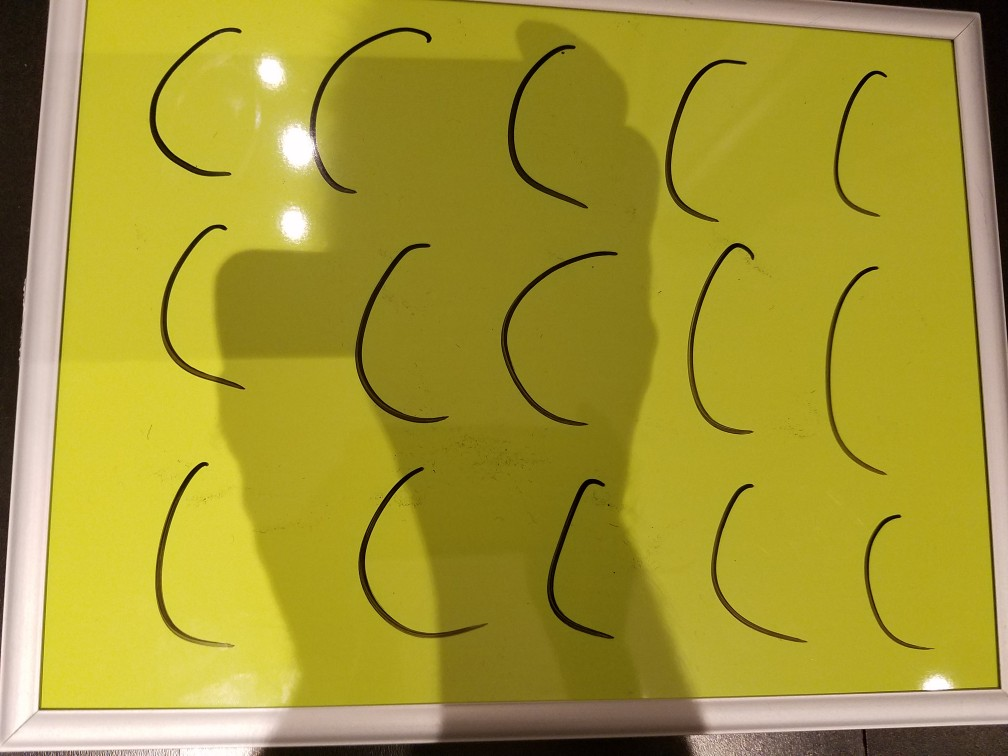(: (340, 451, 493, 668), (129, 442, 256, 679), (292, 11, 434, 201), (344, 229, 468, 441), (501, 239, 622, 439), (139, 213, 257, 399), (130, 13, 253, 188), (677, 232, 775, 446), (697, 475, 809, 658), (810, 252, 897, 481), (493, 28, 598, 213), (648, 38, 751, 224), (846, 500, 947, 657), (544, 466, 627, 648), (813, 51, 893, 226)
